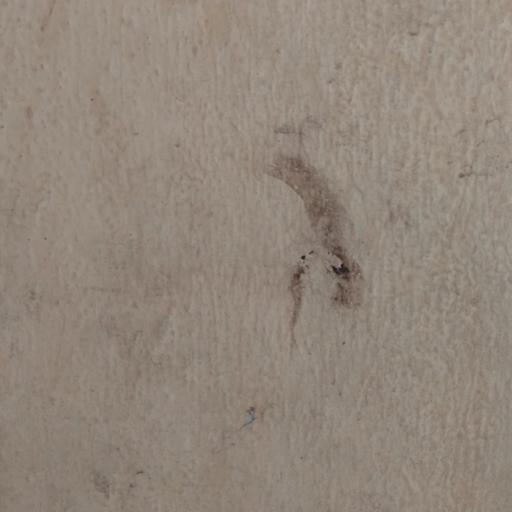stain: (205, 92, 424, 338)
